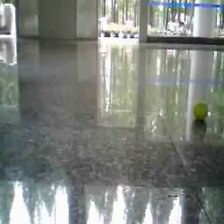tennis: (193, 102, 206, 118)
